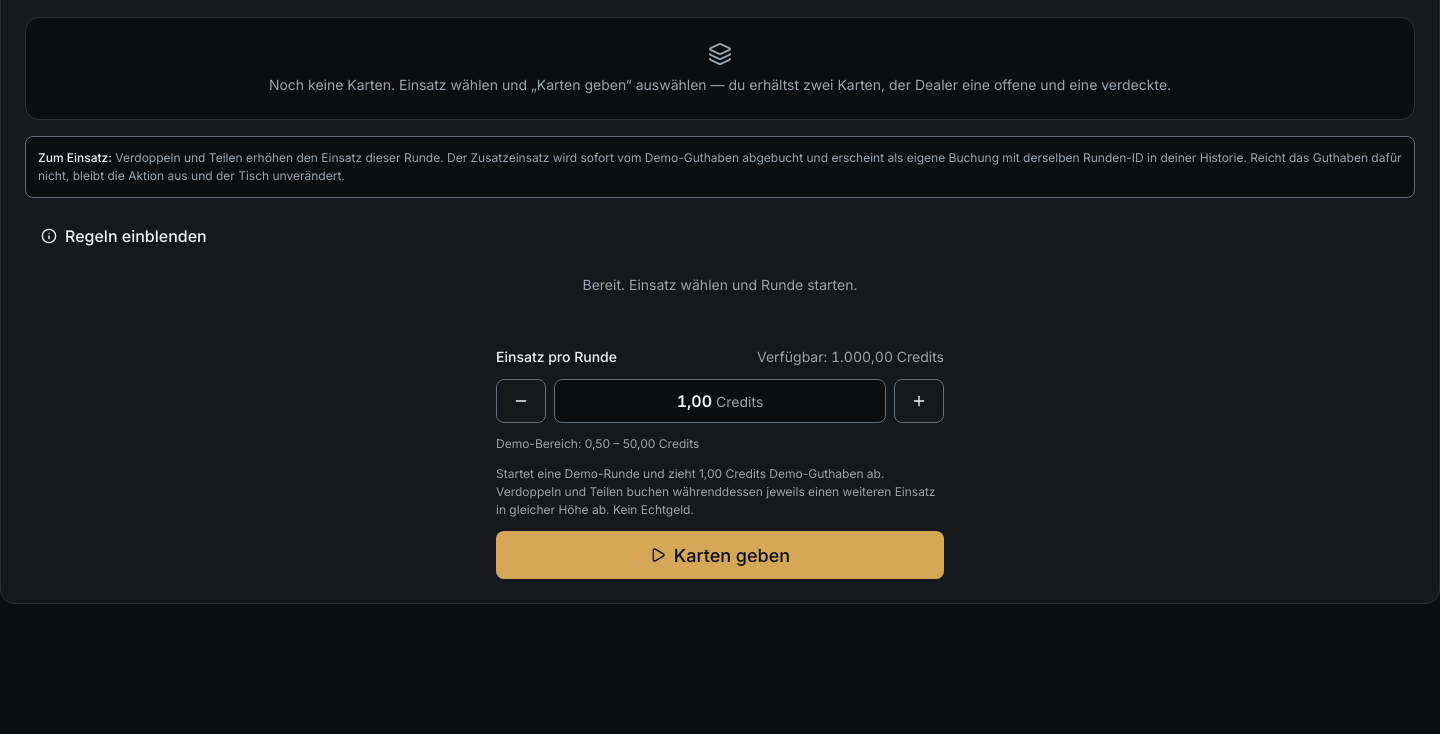
BlackjackGame — Oberfläche und Wallet-Verdrahtung › spielt eine Runde durch und bucht genau einmal
Click the button "Karten geben".
click(720, 555)  # box x1=496 y1=531 x2=944 y2=579
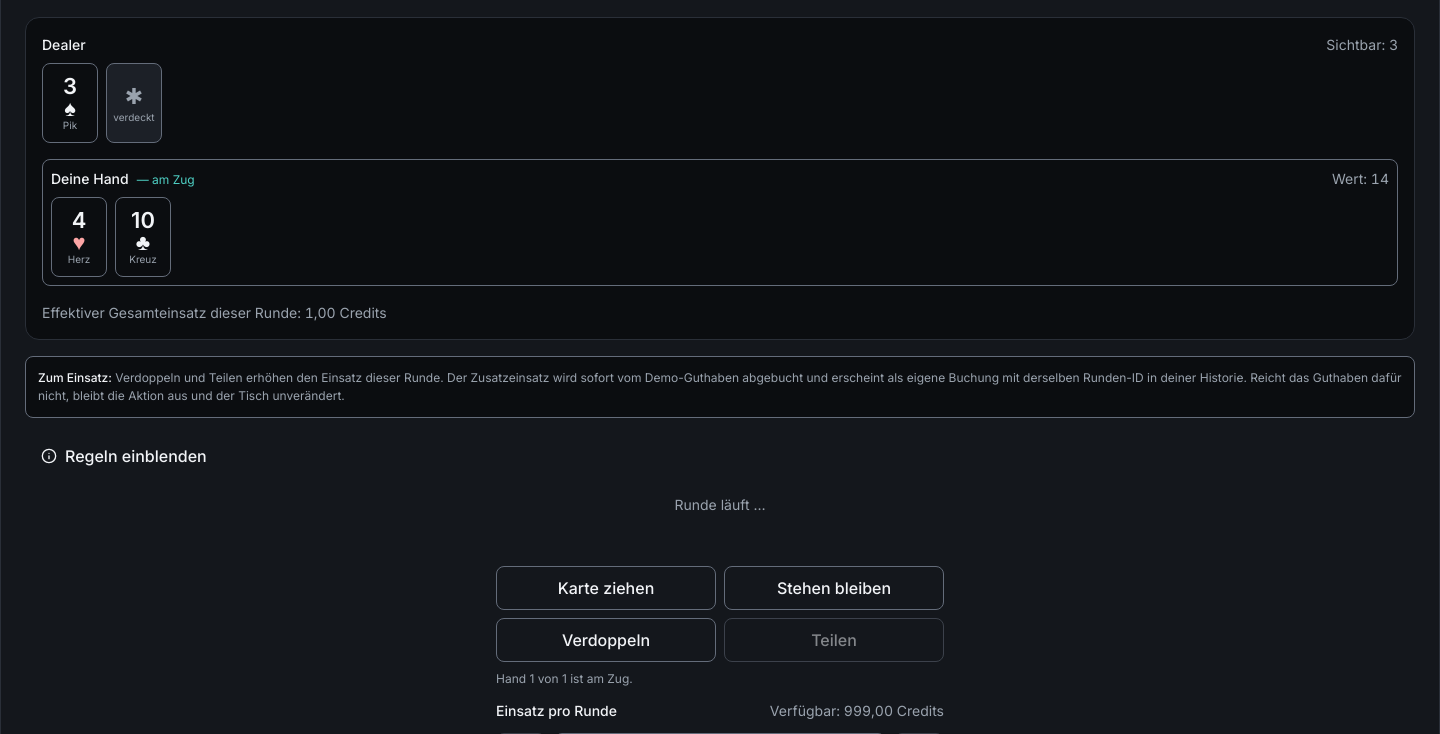
expect the heading "Dealer" is shown: met, box x1=42 y1=34 x2=86 y2=55
Click the button "Stehen bleiben".
click(834, 588)  # box x1=724 y1=566 x2=944 y2=610
Wait 1500 ms
(page scrolled)
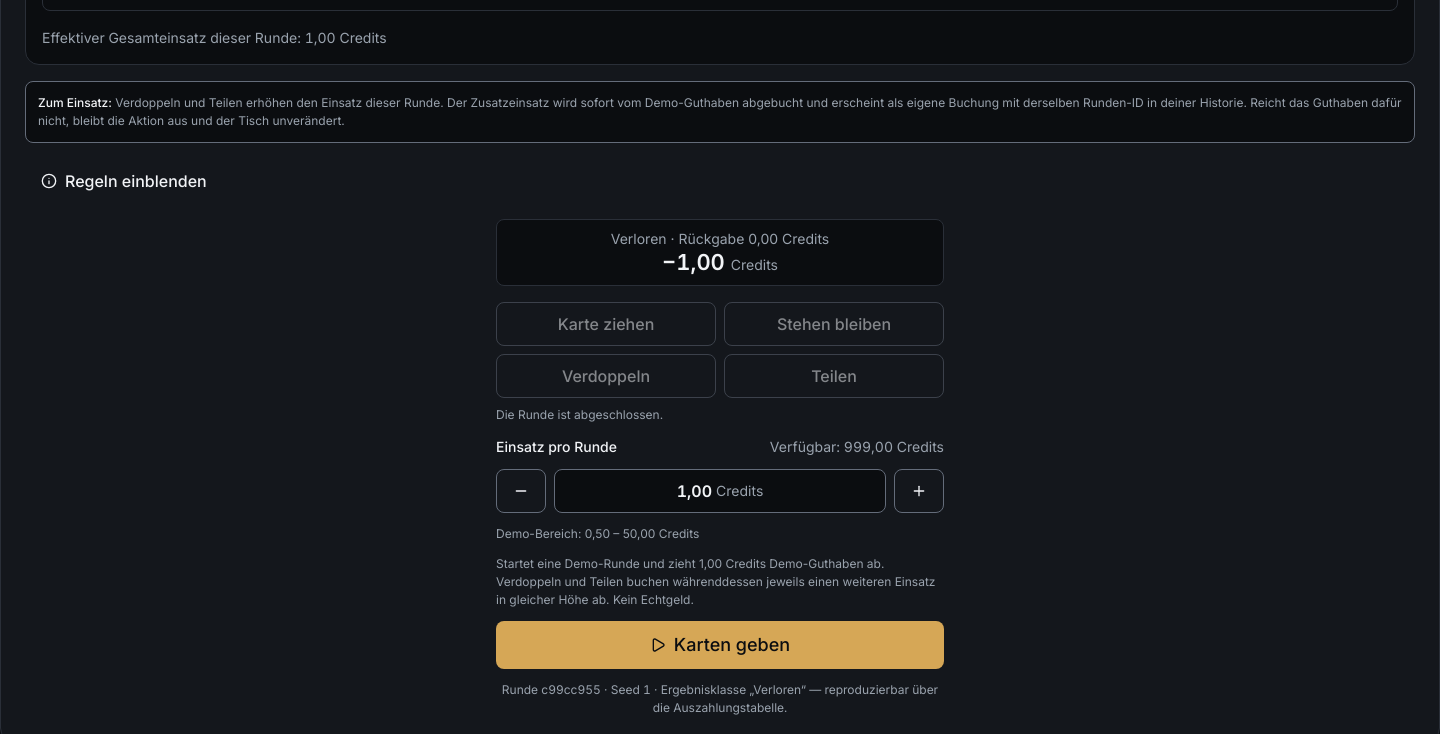
expect the text "Verloren · Rückgabe 0,00 Credits" is shown: met, box x1=611 y1=230 x2=829 y2=247
expect the button "Karten geben" is enabled: met, box x1=496 y1=620 x2=944 y2=668
